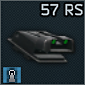FN Five-seveN MK2 rear sight: (0, 0, 85, 85)
